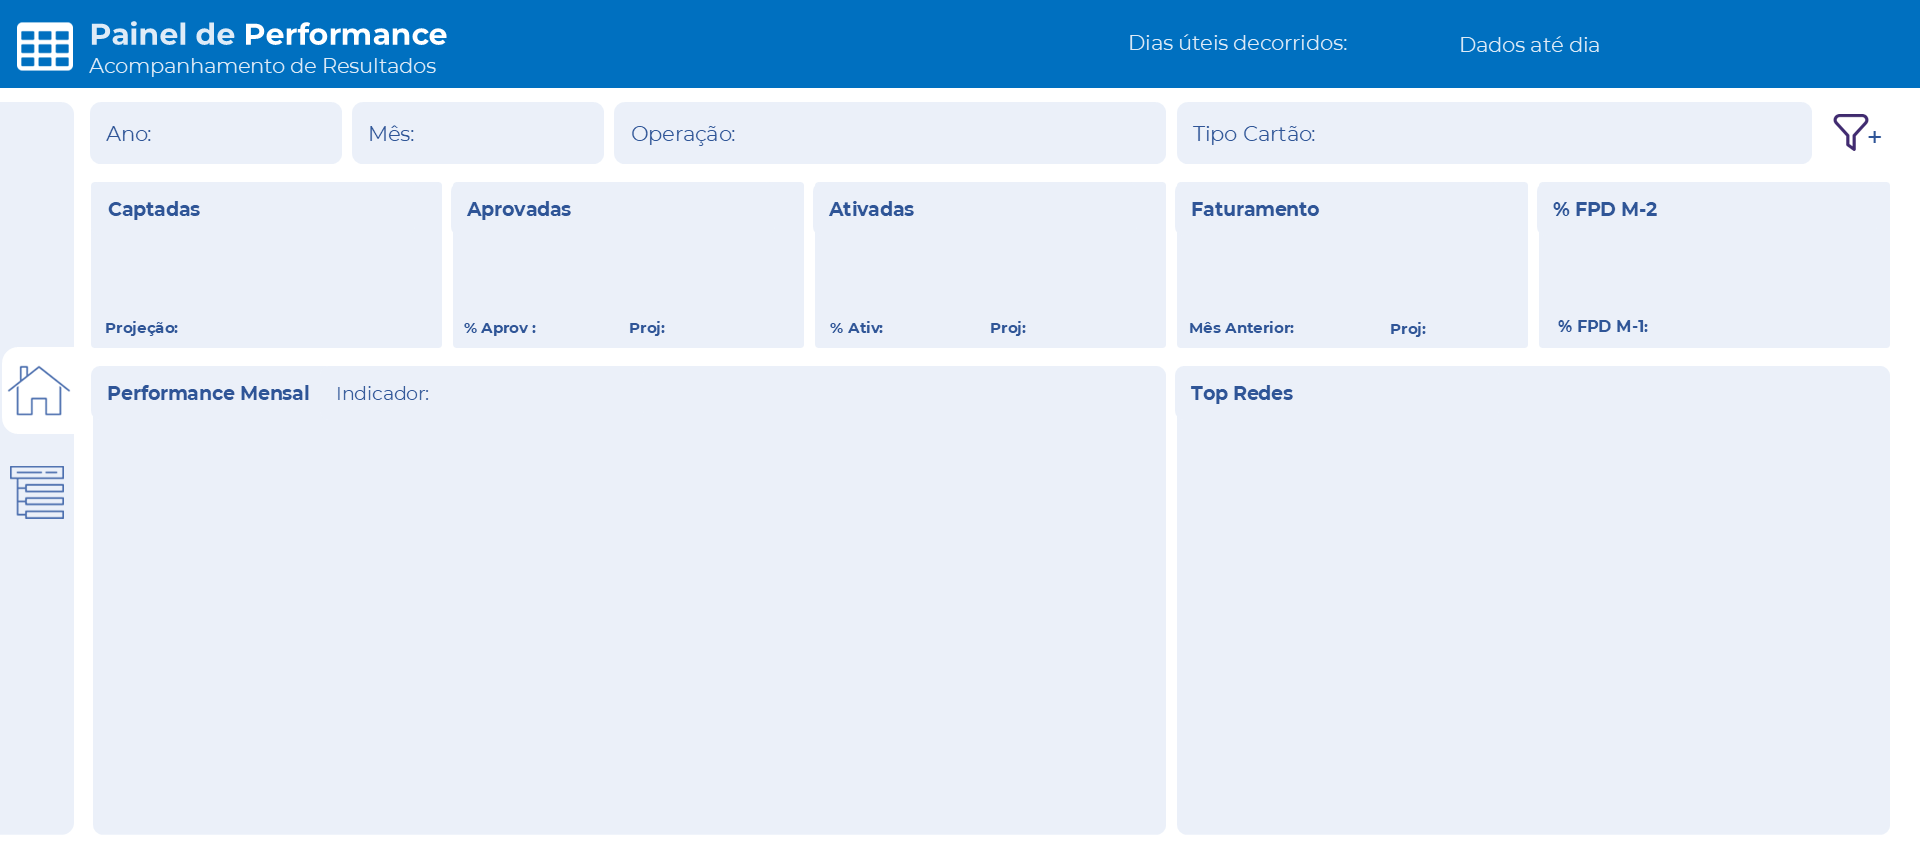

The dashboard page shown, as its layout file describes it:
{"tool":"powerbi","page":{"name":"Geral","canvas":[1366,610],"ordinal":0},"visuals":[{"type":"actionButton","box":[0,260,55,61.7],"z":2000},{"type":"actionButton","box":[0,249.5,55.2,61.7],"z":3000},{"type":"card","fields":{"Values":["Medidas.Atualizacao"]},"box":[1135.9,13.8,143.6,38.7],"z":4000},{"type":"columnChart","fields":{"Y":["Medidas.Faturamento"],"Category":["dimCalendario.Ano-Mês"],"Series":["dataset.produto"]},"box":[70.9,298.2,752,302.8],"z":5000},{"type":"advancedSlicerVisual","fields":{"Values":["dataset.produto"]},"box":[528.4,73.6,300.1,42.3],"z":6000},{"type":"slicer","fields":{"Values":["dimCalendario.Ano"]},"box":[102.8,68.6,140.9,49.5],"z":7000},{"type":"advancedSlicerVisual","fields":{"Values":["dataset.tipo_cartao"]},"box":[937.1,73.6,342.4,42.3],"z":8000},{"type":"barChart","fields":{"Y":["Medidas.Faturamento"],"Category":["Redes.no_rede"]},"box":[845,273.4,495.2,318.5],"z":9000},{"type":"cardVisual","fields":{"Data":["Medidas.Captadas"]},"box":[66.9,135,248.9,103.7],"z":10000},{"type":"cardVisual","fields":{"Data":["Medidas.Aprovadas"]},"box":[323.1,135,248.5,103.1],"z":11000},{"type":"cardVisual","fields":{"Data":["Medidas.Ativadas"]},"box":[582.7,135,248.5,103.1],"z":12000},{"type":"cardVisual","fields":{"Data":["Medidas.Faturamento"]},"box":[831.2,135,253.1,103.1],"z":13000},{"type":"cardVisual","fields":{"Data":["Medidas.FPD M-2"]},"box":[1093.5,127,248.5,103.1],"z":14000},{"type":"cardVisual","fields":{"Data":["Medidas.% Aprovação"]},"box":[370,199.7,94.8,61.7],"z":15000},{"type":"cardVisual","fields":{"Data":["Medidas.% Ativação"]},"box":[616.7,199.7,94.8,61.7],"z":16000},{"type":"slicer","fields":{"Values":["Param_Medidas.Parâmetro"]},"box":[301.9,255.9,386.6,48.8],"z":17000},{"type":"slicer","fields":{"Values":["dimCalendario.Mês Nome"]},"box":[290,68.1,140.8,49.7],"z":18000},{"type":"actionButton","box":[0,321.2,55.2,61.7],"z":19000},{"type":"cardVisual","fields":{"Data":["Medidas.Aprovadas Projeção"]},"box":[463,198.8,94.8,61.7],"z":20000},{"type":"cardVisual","fields":{"Data":["Medidas.Captadas Projeção"]},"box":[113.2,198.8,94.8,61.7],"z":21000},{"type":"cardVisual","fields":{"Data":["Medidas.Ativadas Projeção"]},"box":[720.7,199.7,94.8,61.7],"z":22000},{"type":"cardVisual","fields":{"Data":["Medidas.Faturamento Anterior"]},"box":[909.4,199.7,94.8,61.7],"z":23000},{"type":"cardVisual","fields":{"Data":["Medidas.Faturamento Projeção"]},"box":[1003.3,199.7,94.8,61.7],"z":24000},{"type":"cardVisual","fields":{"Data":["Medidas.FPD M-1"]},"box":[1164.4,197,94.8,61.7],"z":25000},{"type":"actionButton","box":[1290.5,68.2,62.1,49.9],"z":27000},{"type":"card","fields":{"Values":["Medidas.dias decorridos"]},"box":[920.9,11.8,143.9,39.7],"z":28000},{"type":"shape","box":[1279.3,0,86.7,60],"z":28001}]}

Visuals, with their boxes on the page's 1366x610 design canvas (x1, y1, x2, y2). These are canvas units, not pixel positions in the 1920x853 screenshot, which may show the page scaled, cropped or inside an application window:
actionButton: left=0, top=260, right=55, bottom=322
actionButton: left=0, top=250, right=55, bottom=311
card - Medidas.Atualizacao: left=1136, top=14, right=1280, bottom=52
columnChart - Medidas.Faturamento x dimCalendario.Ano-Mês: left=71, top=298, right=823, bottom=601
advancedSlicerVisual - dataset.produto: left=528, top=74, right=828, bottom=116
slicer - dimCalendario.Ano: left=103, top=69, right=244, bottom=118
advancedSlicerVisual - dataset.tipo_cartao: left=937, top=74, right=1280, bottom=116
barChart - Medidas.Faturamento x Redes.no_rede: left=845, top=273, right=1340, bottom=592
cardVisual - Medidas.Captadas: left=67, top=135, right=316, bottom=239
cardVisual - Medidas.Aprovadas: left=323, top=135, right=572, bottom=238
cardVisual - Medidas.Ativadas: left=583, top=135, right=831, bottom=238
cardVisual - Medidas.Faturamento: left=831, top=135, right=1084, bottom=238
cardVisual - Medidas.FPD M-2: left=1094, top=127, right=1342, bottom=230
cardVisual - Medidas.% Aprovação: left=370, top=200, right=465, bottom=261
cardVisual - Medidas.% Ativação: left=617, top=200, right=712, bottom=261
slicer - Param_Medidas.Parâmetro: left=302, top=256, right=688, bottom=305
slicer - dimCalendario.Mês Nome: left=290, top=68, right=431, bottom=118
actionButton: left=0, top=321, right=55, bottom=383
cardVisual - Medidas.Aprovadas Projeção: left=463, top=199, right=558, bottom=260
cardVisual - Medidas.Captadas Projeção: left=113, top=199, right=208, bottom=260
cardVisual - Medidas.Ativadas Projeção: left=721, top=200, right=816, bottom=261
cardVisual - Medidas.Faturamento Anterior: left=909, top=200, right=1004, bottom=261
cardVisual - Medidas.Faturamento Projeção: left=1003, top=200, right=1098, bottom=261
cardVisual - Medidas.FPD M-1: left=1164, top=197, right=1259, bottom=259
actionButton: left=1290, top=68, right=1353, bottom=118
card - Medidas.dias decorridos: left=921, top=12, right=1065, bottom=52
shape: left=1279, top=0, right=1366, bottom=60
